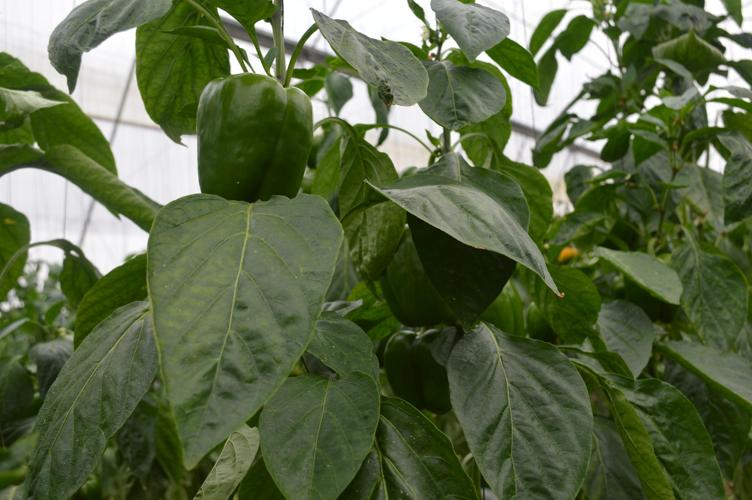BellPepper: (185, 67, 334, 222), (373, 326, 475, 412), (368, 226, 452, 323)
